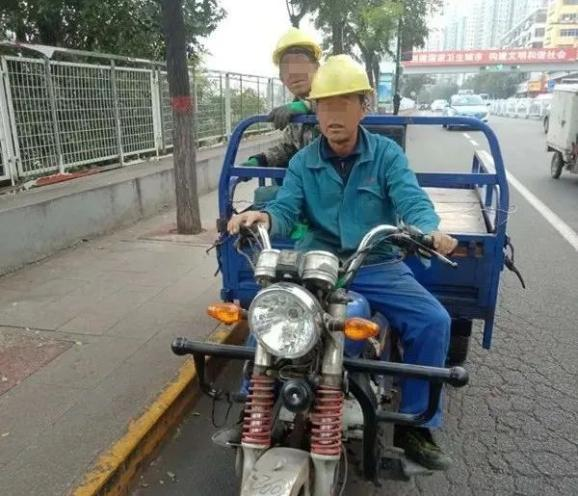driver: (264, 56, 463, 465)
overloading: (154, 18, 519, 490)
passenger: (238, 18, 322, 179)
